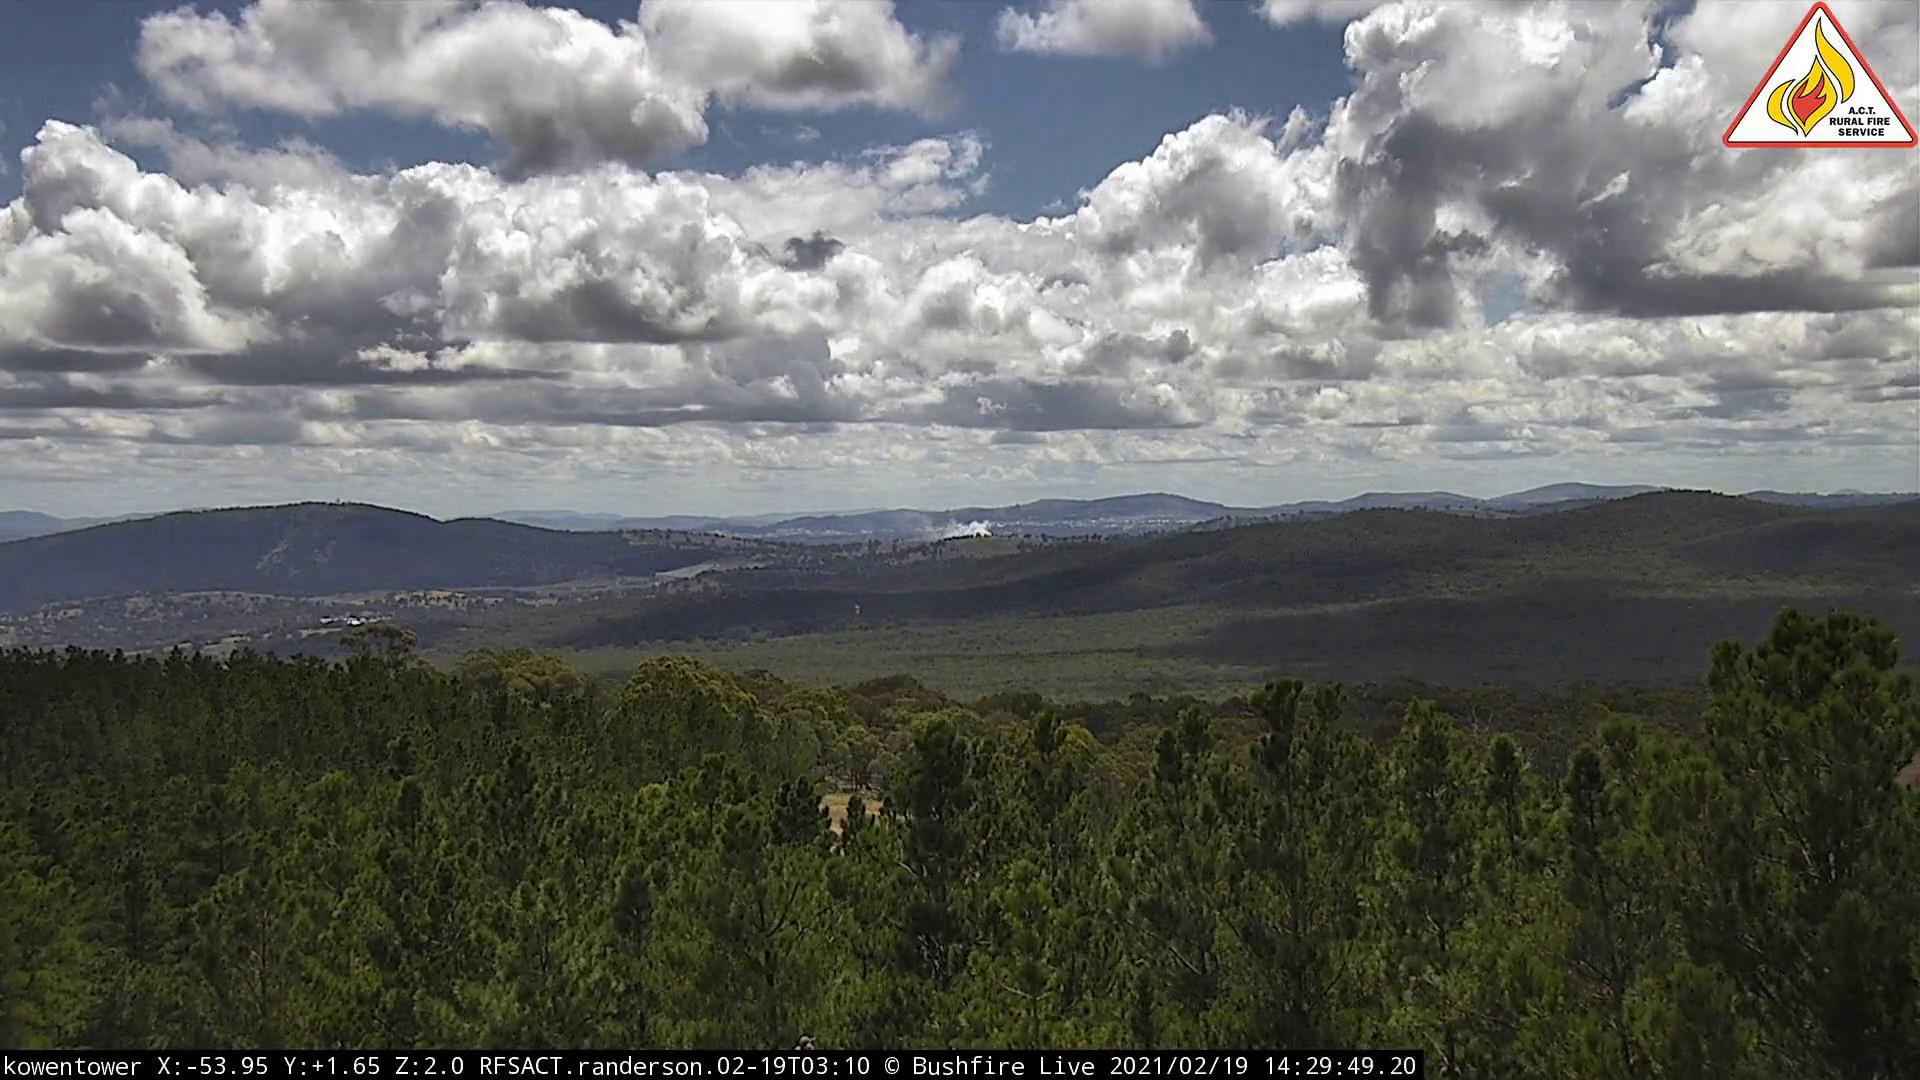Smoke: (895, 506, 1004, 547)
